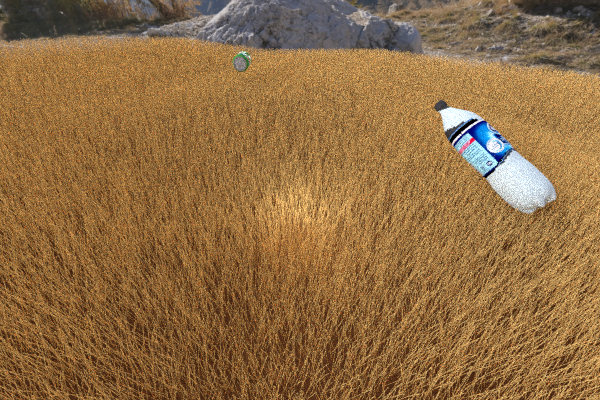Plastic Bottle: (434, 100, 556, 213), (144, 99, 208, 133), (232, 51, 251, 71)
